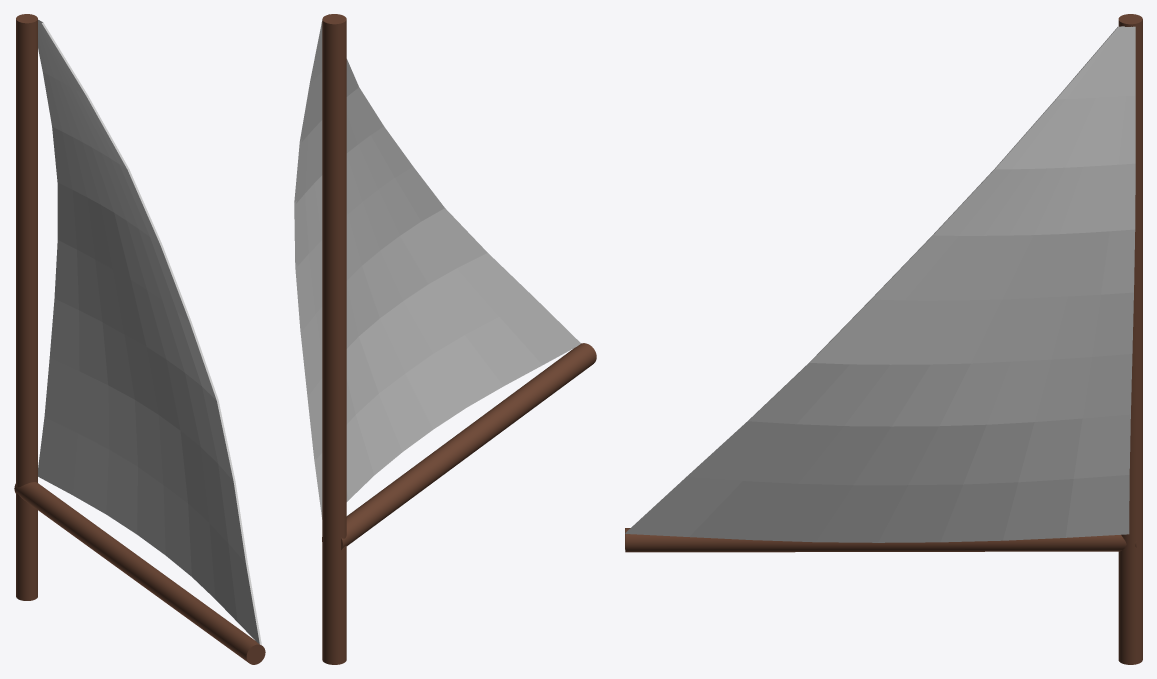
Rendered from kuba_boat_sail.glb.
3 views of the same model, side by side, from view 1: azimuth 30°, elevation 25°; view 2: azimuth 150°, elevation 25°; view 3: azimuth 270°, elevation 25° (orthographic). The views are drawn at different scales.
Parts seen in each view (by area): view 1: Maszt.001, Maszt; view 2: Maszt.001, Maszt; view 3: Maszt.001, Maszt.
Part boxes in pixels (x1=…): Maszt.001: x1=38, y1=19, x2=261, y2=644; Maszt: x1=14, y1=14, x2=265, y2=664; Maszt.001: x1=294, y1=14, x2=580, y2=519; Maszt: x1=322, y1=14, x2=596, y2=664; Maszt.001: x1=625, y1=26, x2=1135, y2=542; Maszt: x1=625, y1=14, x2=1142, y2=664.
Bounding box in the file's own units: 0.9161 × 8.23 × 6.03.
